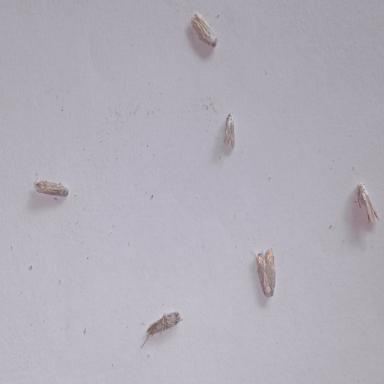pbw: (139, 310, 182, 348), (256, 247, 276, 297), (190, 12, 218, 47), (358, 183, 380, 223), (34, 173, 68, 197), (224, 112, 235, 149)
